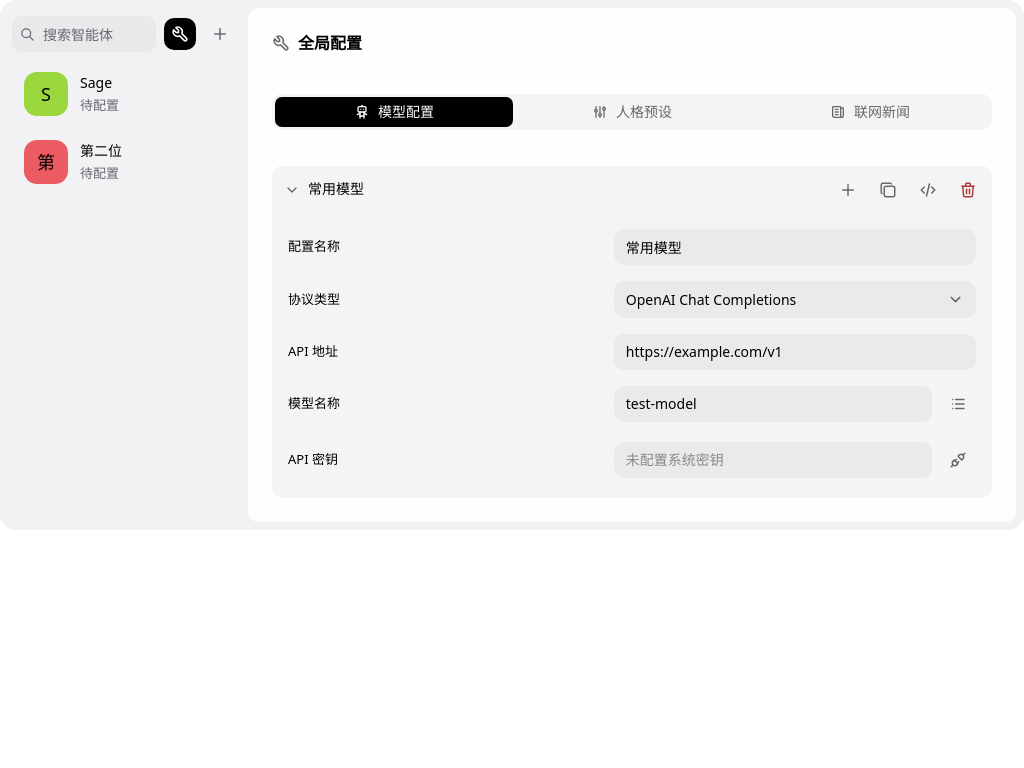
Test case: 持久资源智能体页面 › 采用模型直接应用普通参数和 confirmed 版本，覆盖需确认且没有密钥
Step 1. Click the button "S Sage 待配置" → {"x": 124, "y": 94}, box top-left (12, 60), bottom-right (236, 128)
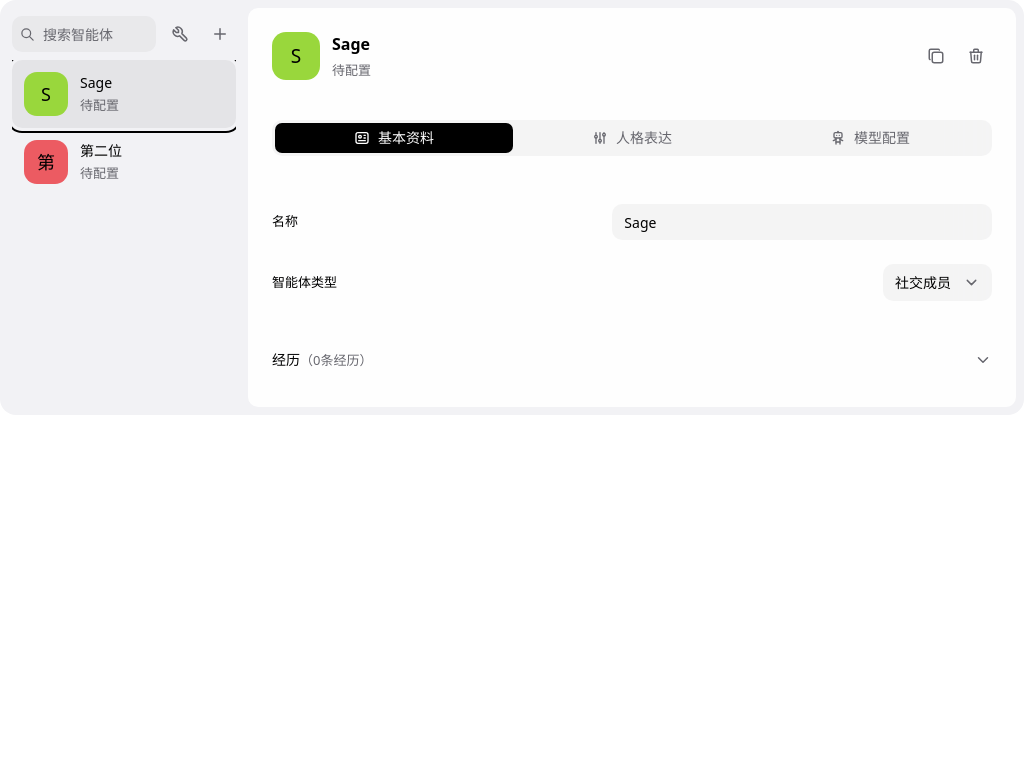
Step 2. Click the tab "模型配置" → {"x": 870, "y": 138}, box top-left (751, 123), bottom-right (989, 153)
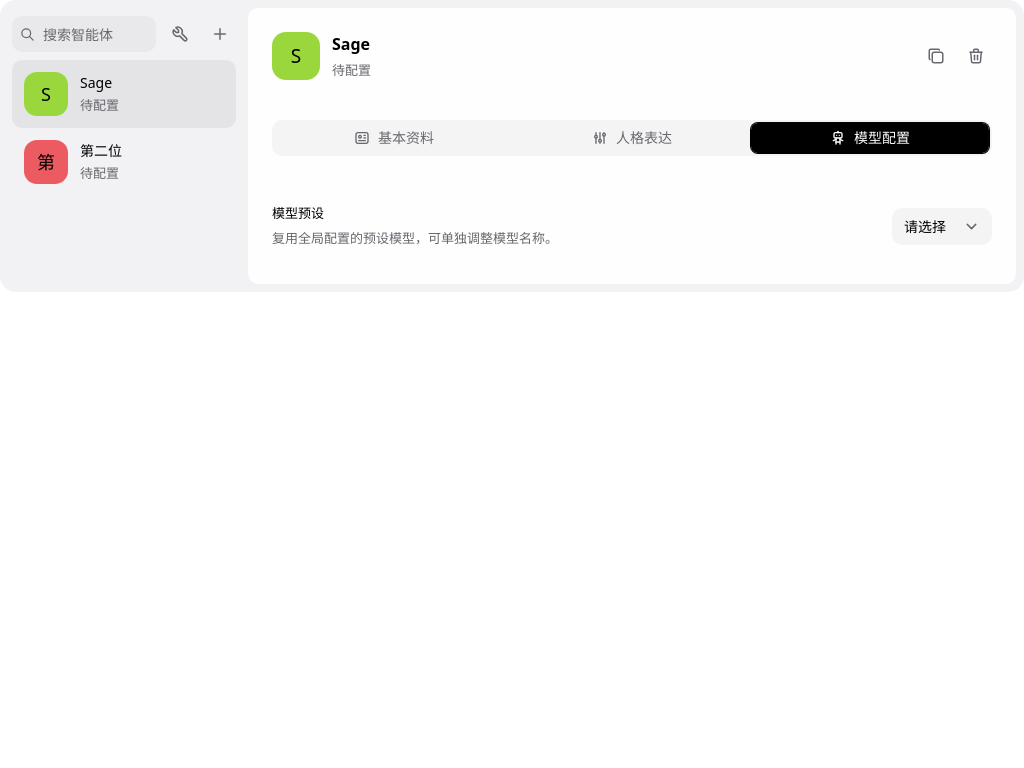
Step 3. Click the dropdown named "模型预设" → {"x": 942, "y": 226}, box top-left (892, 208), bottom-right (992, 245)
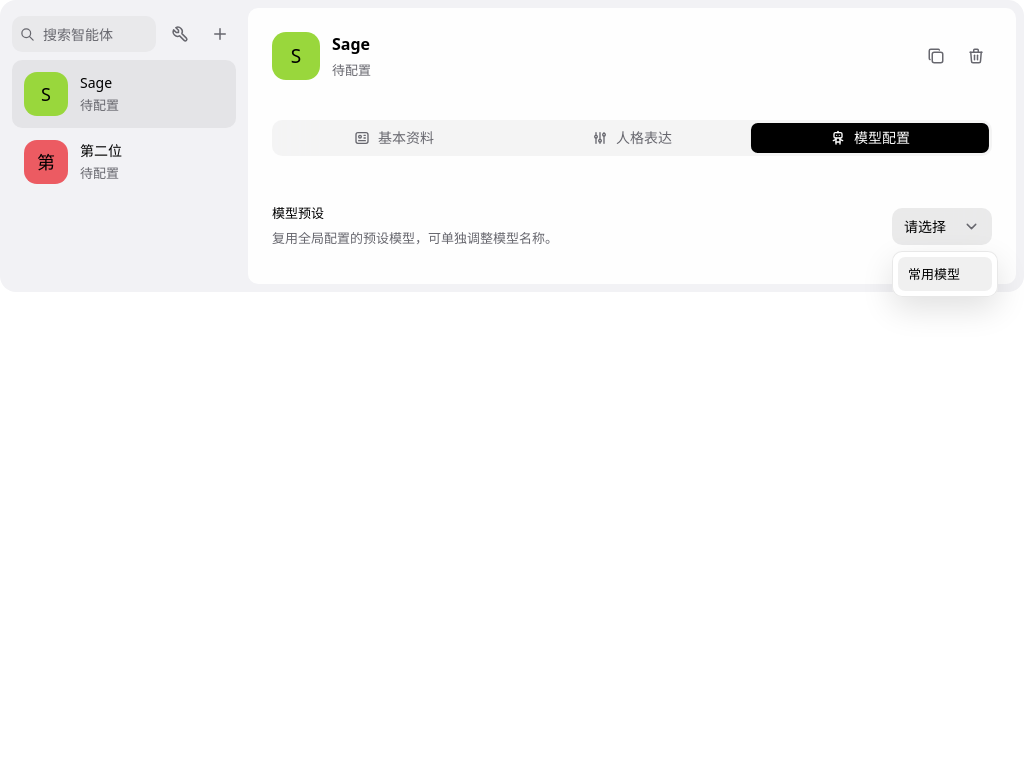
Step 4. Click the option "常用模型" → {"x": 945, "y": 274}, box top-left (898, 257), bottom-right (992, 291)
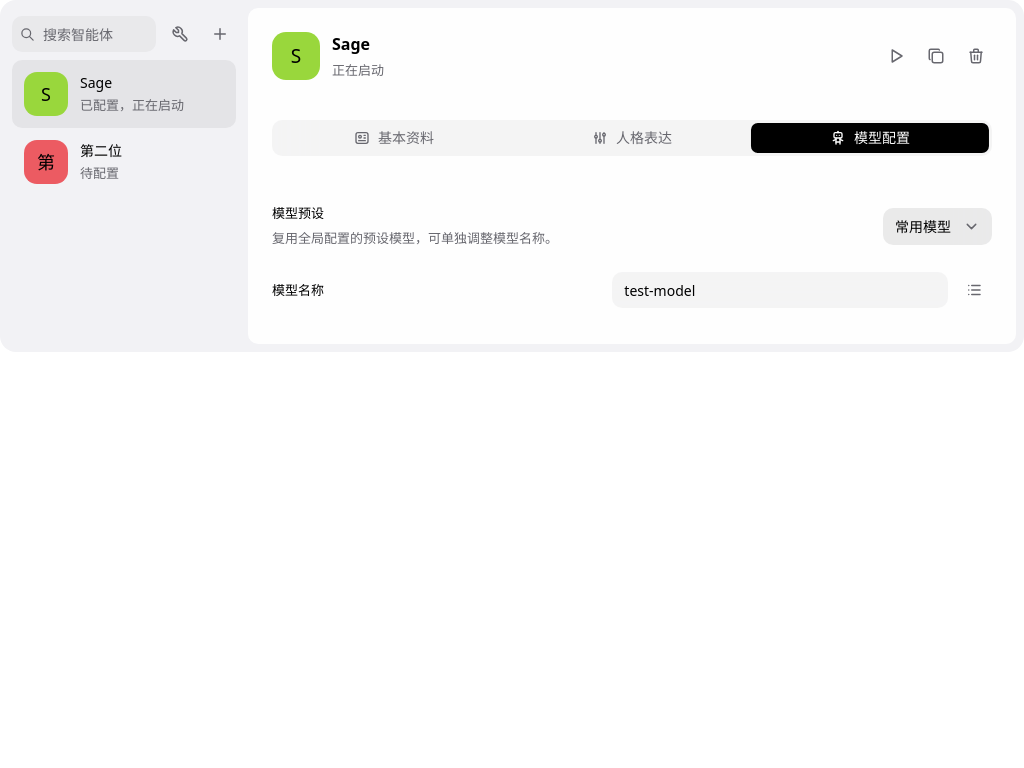
Expected: the label labelled "API 地址" is not shown
Expected: the field named "模型名称" holds "test-model", top-left (612, 272), bottom-right (948, 308)
Expected: the button named "获取模型列表" is shown, top-left (956, 272), bottom-right (992, 308)
